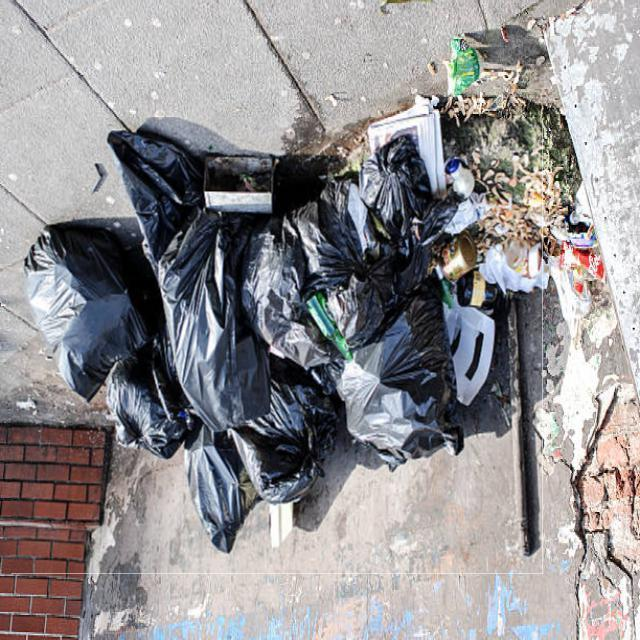Trashbag: (147, 144, 260, 406), (246, 206, 420, 352), (28, 225, 158, 393), (341, 311, 453, 458), (246, 367, 336, 501), (184, 417, 252, 550), (362, 142, 435, 225), (104, 399, 171, 459)
